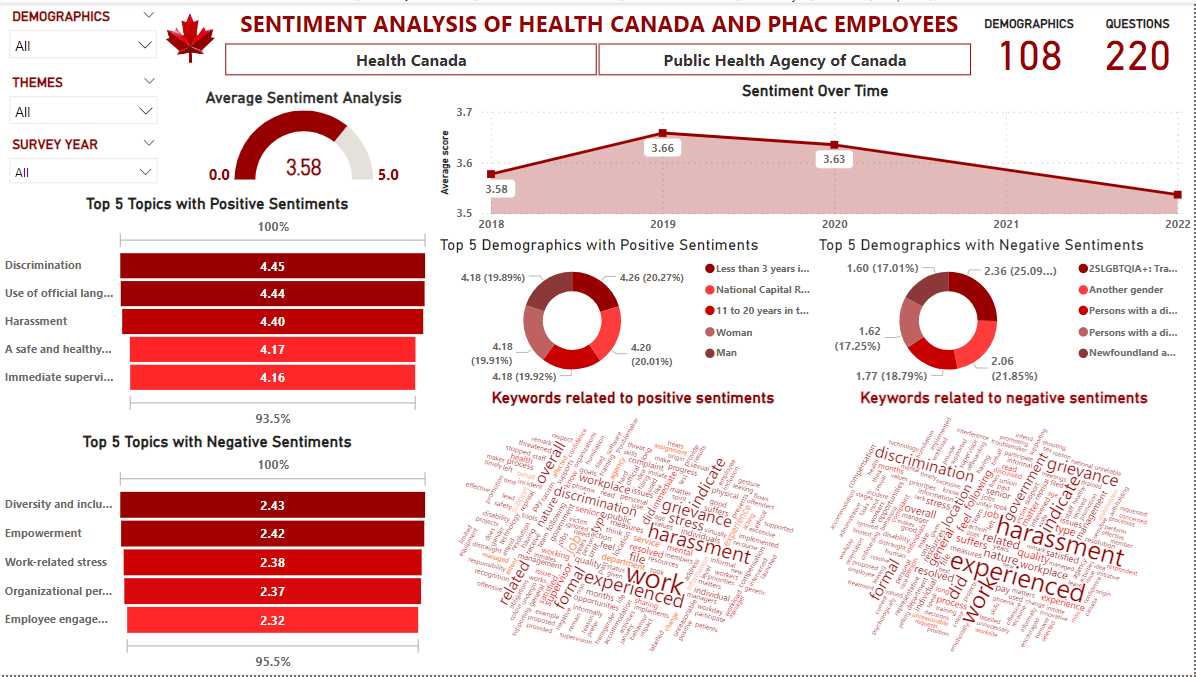

The dashboard page shown, as its layout file describes it:
{"tool":"powerbi","page":{"name":"OVERALL ANALYSIS","canvas":[1280,720],"ordinal":0},"visuals":[{"type":"textbox","box":[239.4,0,806.6,46.3],"z":0},{"type":"slicer","fields":{"Values":["DEMCODE_BYCOND_DESCRIPTION.DESCRIP_E"]},"box":[0,0.9,178.4,70.7],"z":1000},{"type":"slicer","fields":{"Values":["INDICATORID.INDICATORENG"]},"box":[0,71.5,179.3,73.3],"z":2000},{"type":"slicer","fields":{"Values":["LVL_Department.DEPT_E"]},"box":[215.1,36,848.8,47.7],"z":3000},{"type":"card","title":"DEMOGRAPHICS","fields":{"Values":["Count(COMBINED_DATASETS.DEMCODE)"]},"box":[1046.1,15.4,113.7,78.3],"z":4000},{"type":"card","title":"QUESTIONS ","fields":{"Values":["Count(COMBINED_DATASETS.QUESTION)"]},"box":[1158.6,15.4,121.4,78.3],"z":5000},{"type":"stackedAreaChart","title":"Sentiment Over Time","fields":{"Category":["COMBINED_DATASETS.SURVEYR"],"Y":["Avg(COMBINED_DATASETS.SCORE5)"]},"box":[465.7,83.8,814.7,171.5],"z":6000},{"type":"funnel","title":"Top 5 Topics with Negative Sentiments","fields":{"Category":["SUBINDICATOR.SUBINDICATORENG_1"],"Y":["Avg(COMBINED_DATASETS.SCORE5)"]},"box":[0,459.4,465.5,260.3],"z":7000},{"type":"gauge","title":"Average Sentiment Analysis","fields":{"Y":["Avg(COMBINED_DATASETS.SCORE5)"]},"box":[184.9,90.7,280.2,108.1],"z":8000},{"type":"slicer","fields":{"Values":["COMBINED_DATASETS.SURVEYR"]},"box":[0,138.3,178.7,80.1],"z":9000},{"type":"funnel","title":"Top 5 Topics with Positive Sentiments","fields":{"Category":["SUBINDICATOR.SUBINDICATORENG_1"],"Y":["Avg(COMBINED_DATASETS.SCORE5)"]},"box":[0,205.1,465.5,254.3],"z":10000},{"type":"WordCloud1447959067750","title":"Keywords related to positive sentiments","fields":{"Category":["COMBINED_DATASETS.KEYWORDS"]},"box":[474.2,412.5,407.4,307.1],"z":11000},{"type":"WordCloud1447959067750","title":"Keywords related to negative sentiments","fields":{"Category":["COMBINED_DATASETS.KEYWORDS"]},"box":[872.6,412.5,407.4,307.1],"z":12000},{"type":"image","box":[167.4,3.5,73.3,68.6],"z":13000},{"type":"donutChart","title":"Top 5 Demographics with Positive Sentiments","fields":{"Category":["DEMCODE_BYCOND_DESCRIPTION.DESCRIP_E"],"Y":["Avg(COMBINED_DATASETS.SCORE5)"]},"box":[465.7,248.3,416,164.4],"z":14000},{"type":"donutChart","title":"Top 5 Demographics with Negative Sentiments","fields":{"Category":["DEMCODE_BYCOND_DESCRIPTION.DESCRIP_E"],"Y":["Avg(COMBINED_DATASETS.SCORE5)"]},"box":[872.3,248.2,407.7,164.6],"z":15000}]}

Visuals, with their boxes in screenshot pixels (x1, y1, x2, y2), scaled from the page's 1280x720 canvas onto the 1196x677 screenshot:
textbox: BBox(224, 0, 977, 44)
slicer - DEMCODE_BYCOND_DESCRIPTION.DESCRIP_E: BBox(0, 1, 167, 67)
slicer - INDICATORID.INDICATORENG: BBox(0, 67, 168, 136)
slicer - LVL_Department.DEPT_E: BBox(201, 34, 994, 79)
"DEMOGRAPHICS" card: BBox(977, 14, 1084, 88)
"QUESTIONS " card: BBox(1083, 14, 1195, 88)
"Sentiment Over Time" stackedAreaChart: BBox(435, 79, 1195, 240)
"Top 5 Topics with Negative Sentiments" funnel: BBox(0, 432, 435, 676)
"Average Sentiment Analysis" gauge: BBox(173, 85, 435, 187)
slicer - COMBINED_DATASETS.SURVEYR: BBox(0, 130, 167, 205)
"Top 5 Topics with Positive Sentiments" funnel: BBox(0, 193, 435, 432)
"Keywords related to positive sentiments" WordCloud1447959067750: BBox(443, 388, 824, 676)
"Keywords related to negative sentiments" WordCloud1447959067750: BBox(815, 388, 1195, 676)
image: BBox(156, 3, 225, 68)
"Top 5 Demographics with Positive Sentiments" donutChart: BBox(435, 233, 824, 388)
"Top 5 Demographics with Negative Sentiments" donutChart: BBox(815, 233, 1195, 388)
